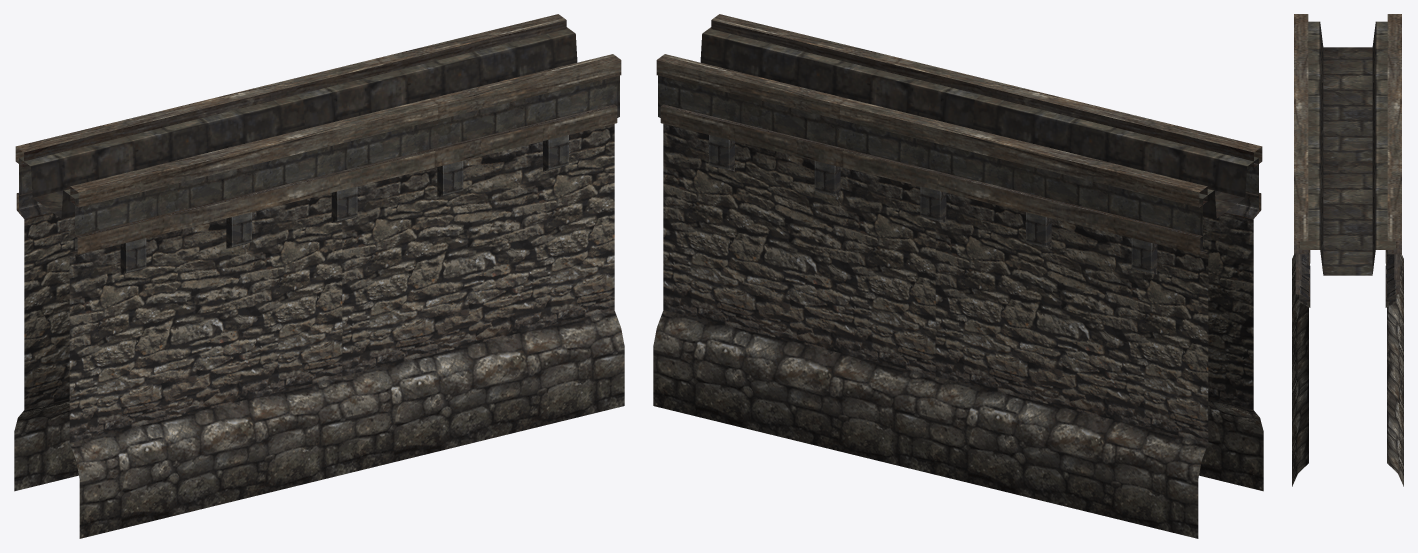
File: SC_yonghengsenlin_05.FBX
The picture shows the model from 3 angles, left to right: view 1: azimuth 30°, elevation 25°; view 2: azimuth 150°, elevation 25°; view 3: azimuth 270°, elevation 25°; orthographic projection. The views are drawn at different scales.
Parts seen in each view (by area): view 1: SC_yonghengsenlin_05; view 2: SC_yonghengsenlin_05; view 3: SC_yonghengsenlin_05.
Boxes of the visible parts, x1=… form: SC_yonghengsenlin_05: x1=14, y1=14, x2=624, y2=538; SC_yonghengsenlin_05: x1=653, y1=14, x2=1263, y2=538; SC_yonghengsenlin_05: x1=1292, y1=14, x2=1403, y2=486.
Bounding box in the file's own units: 821 × 498 × 170.
